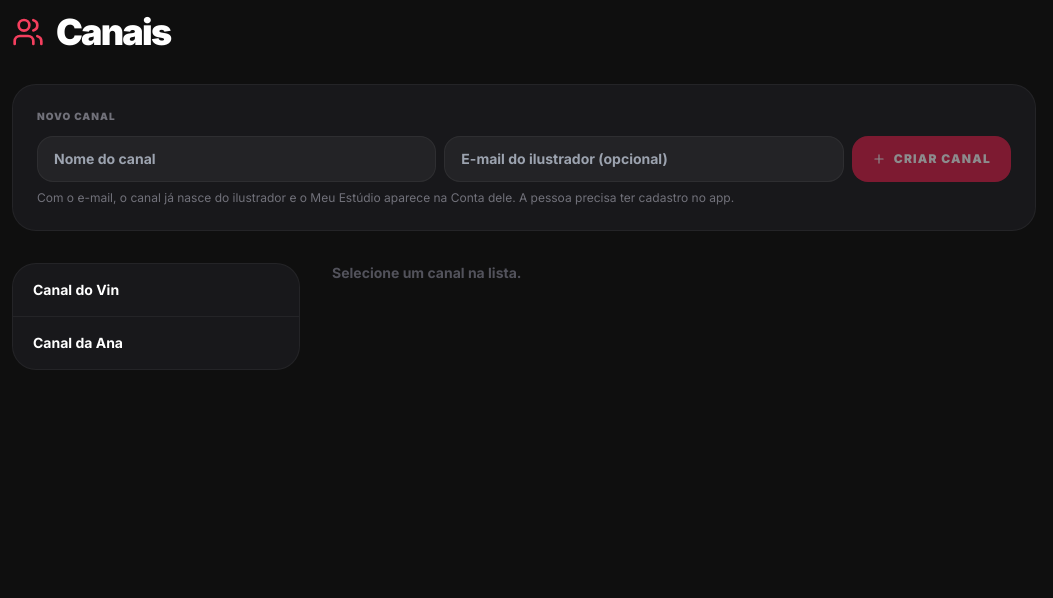
Test: CanaisPanel — lista e seleção › clicar num canal busca o detalhe e mostra o dono atual
Click the button "Canal do Vin" at (76, 290), box x1=13 y1=264 x2=299 y2=316
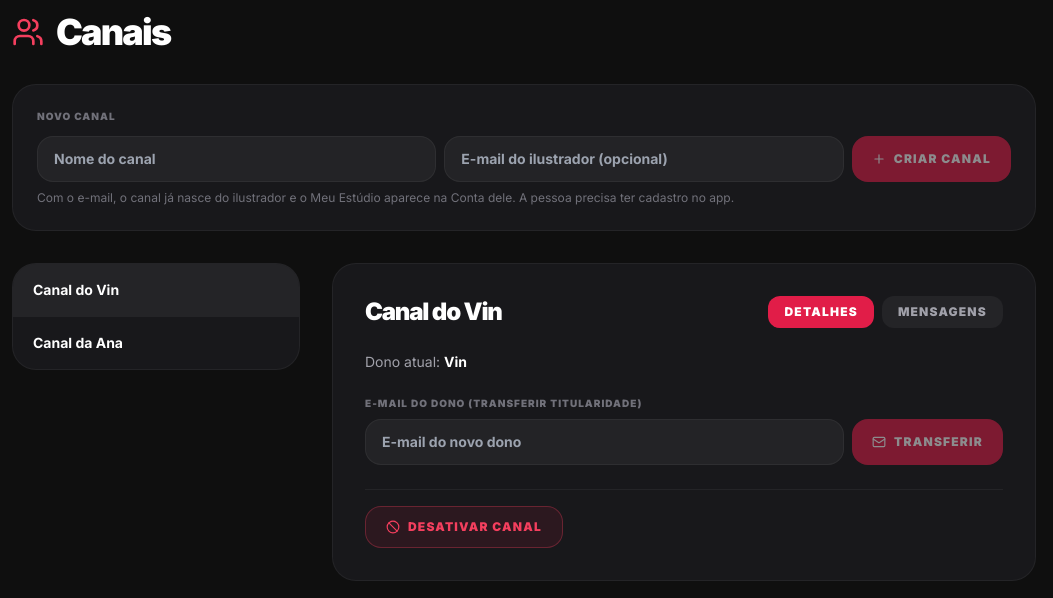
Expected: the text "Dono atual: Vin" is shown, x1=365 y1=353 x2=467 y2=370
